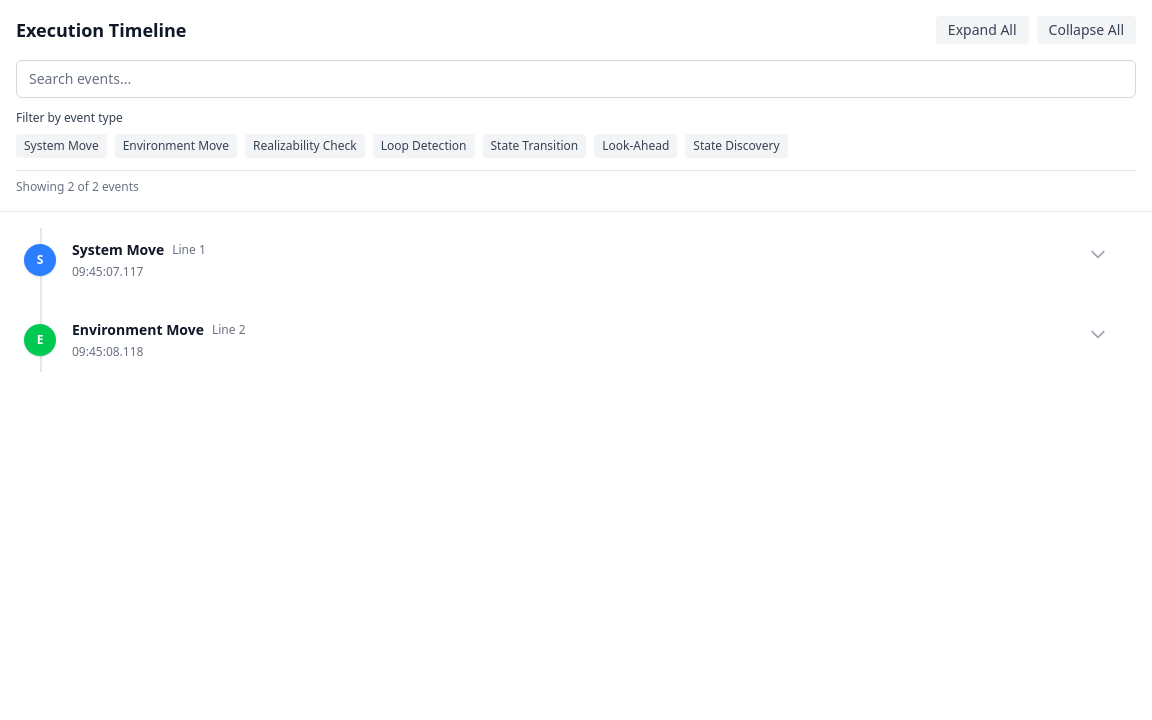
Timeline Component › should expand all events when Expand All is clicked
The width and height of the screenshot is (1152, 720).
Click the button with aria-label "Expand all timeline events": {"x": 982, "y": 30} [936, 16, 1028, 44]
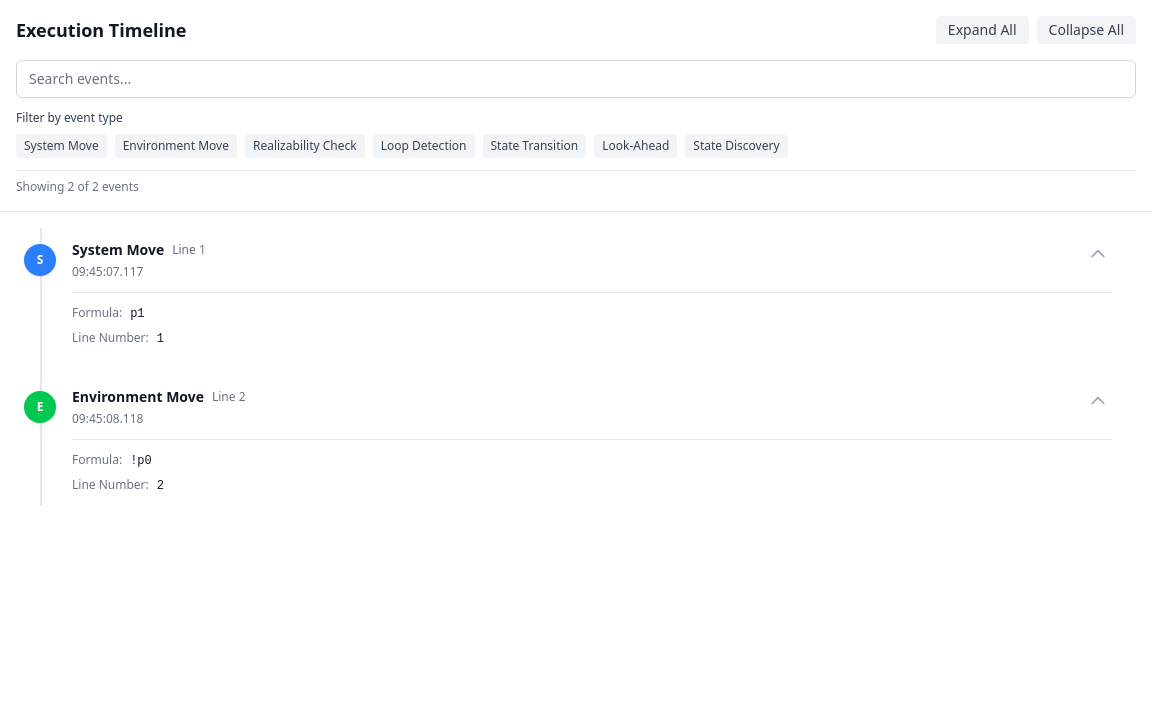
expect the text "Formula" is shown: met, box [72, 304, 119, 321]
